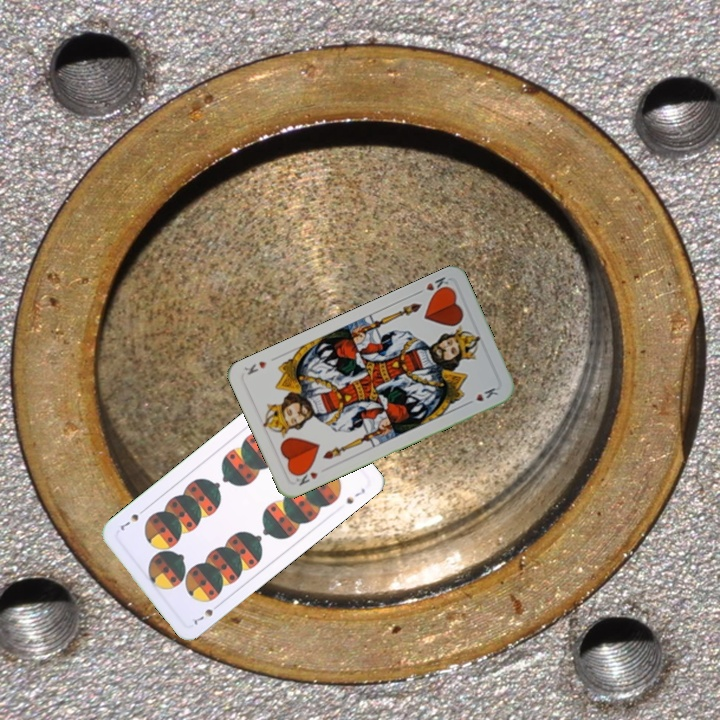HK: (412, 273, 452, 298), (290, 464, 321, 488)
S7: (189, 599, 223, 627)
